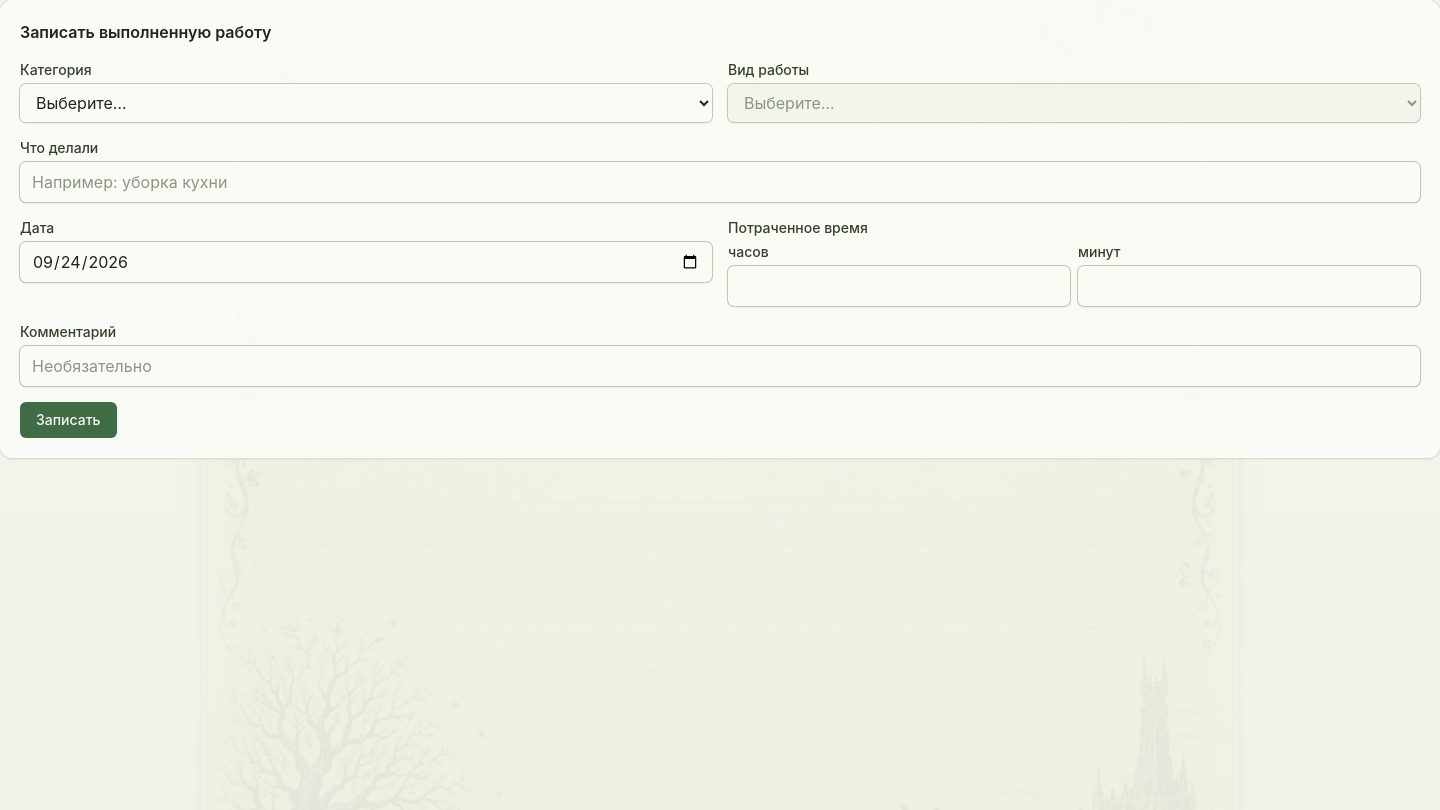
Scenario: ActivityForm › требует название задачи
Select "🏠 Домашние обязанности" in the dropdown labelled "Категория": (366, 103) [20,84,712,122]
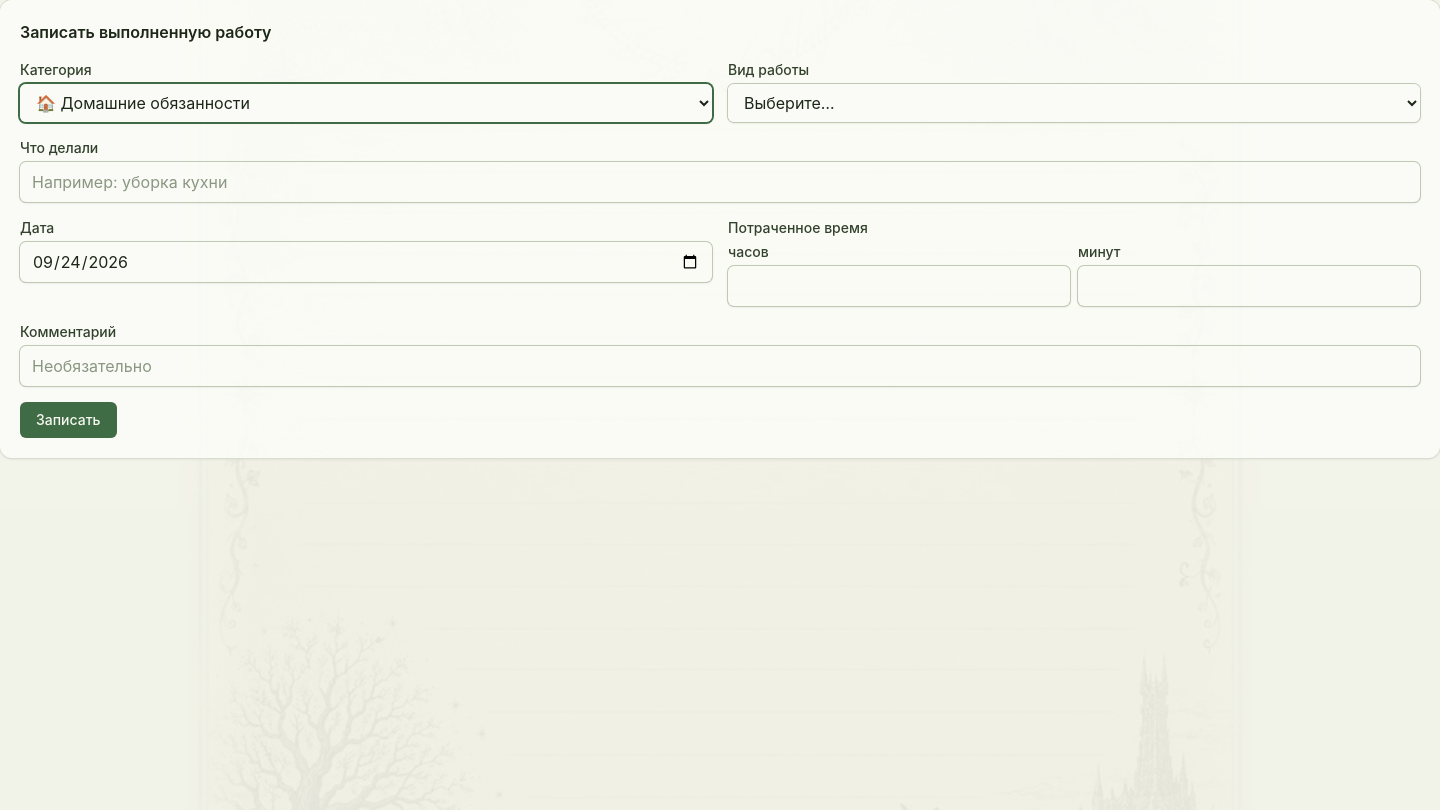
Select "Уборка" in the dropdown labelled "Вид работы": (1074, 103) [728,84,1420,122]
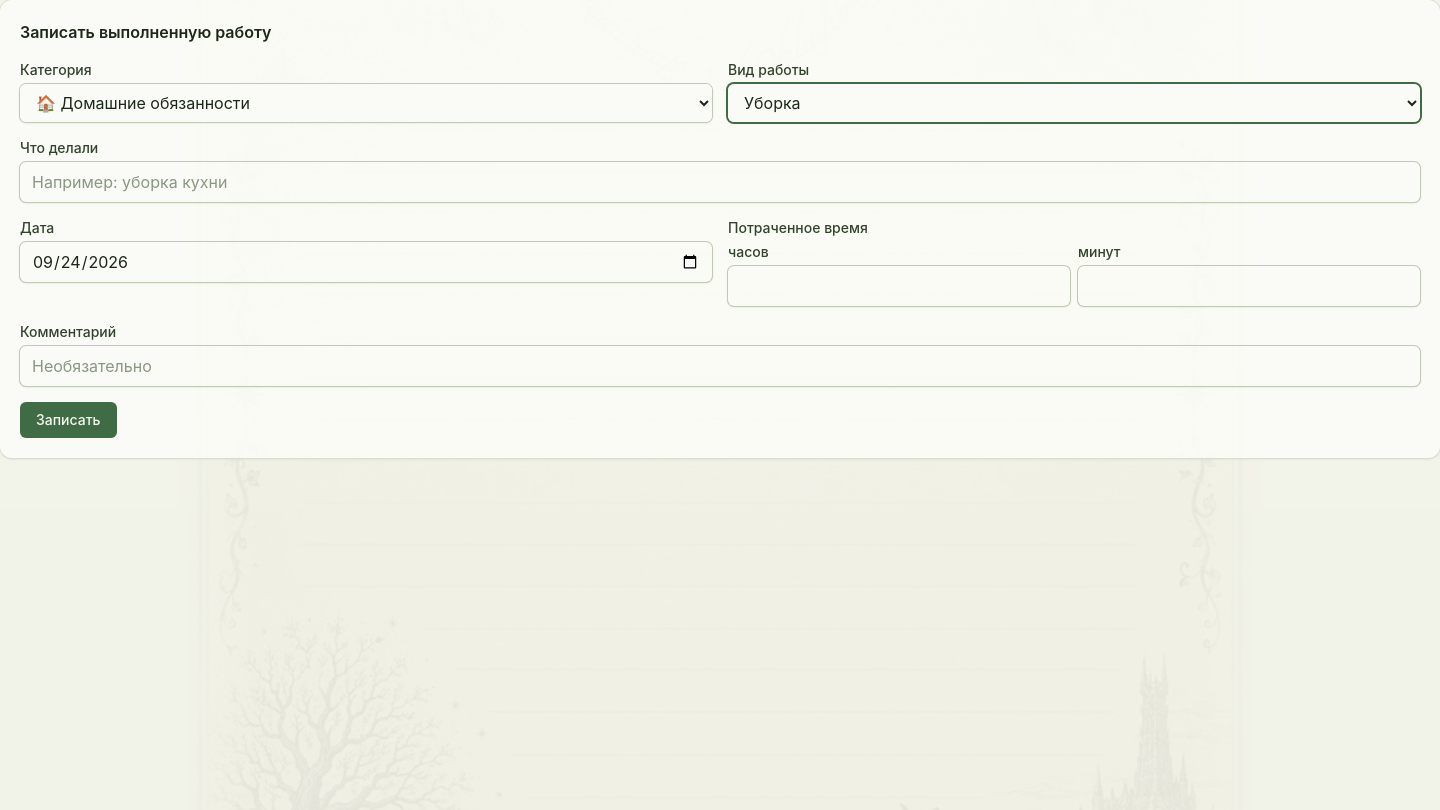
In the number field labelled "часов": (899, 286) [728,266,1070,306], type "1"
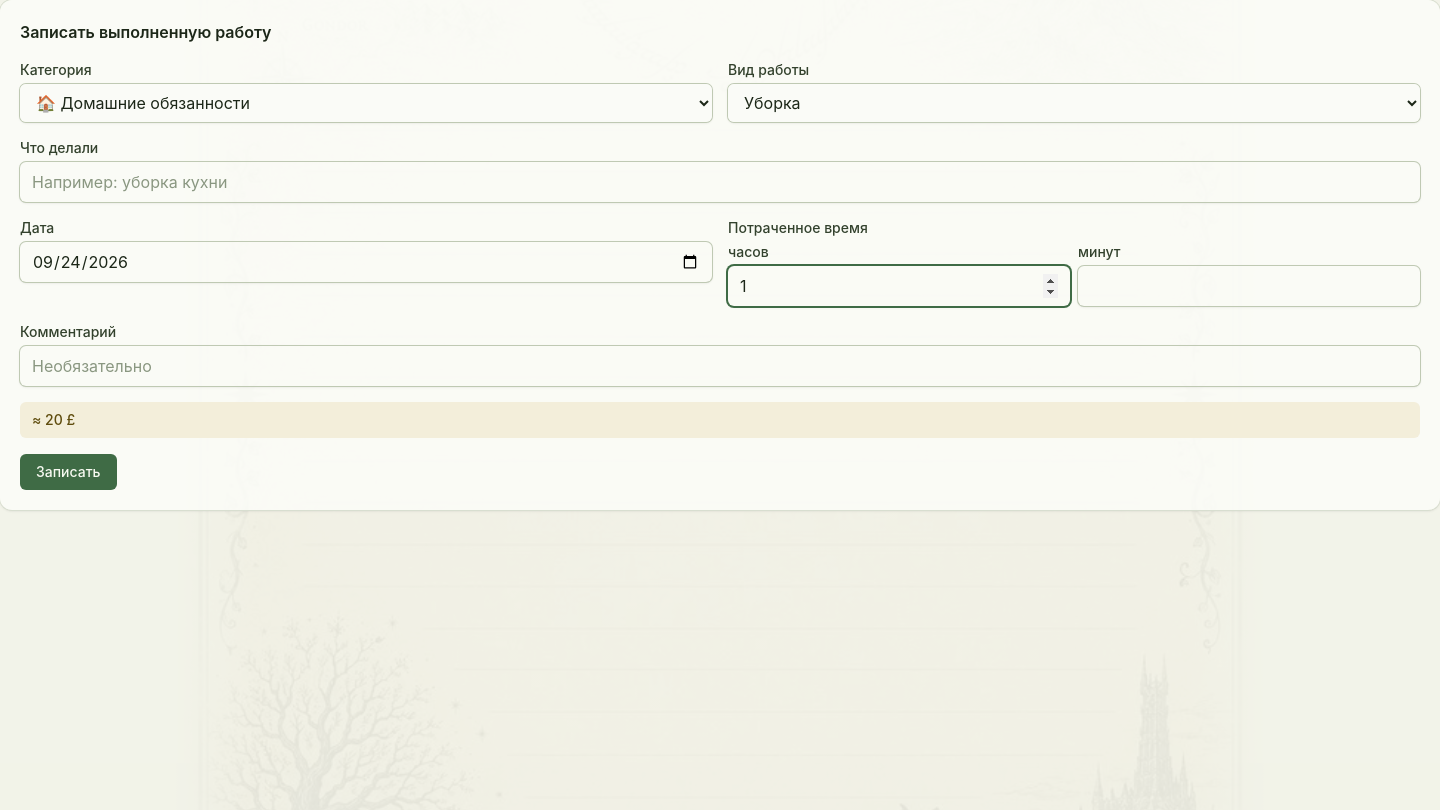
Click the button "Записать": (68, 472) [20,454,116,490]
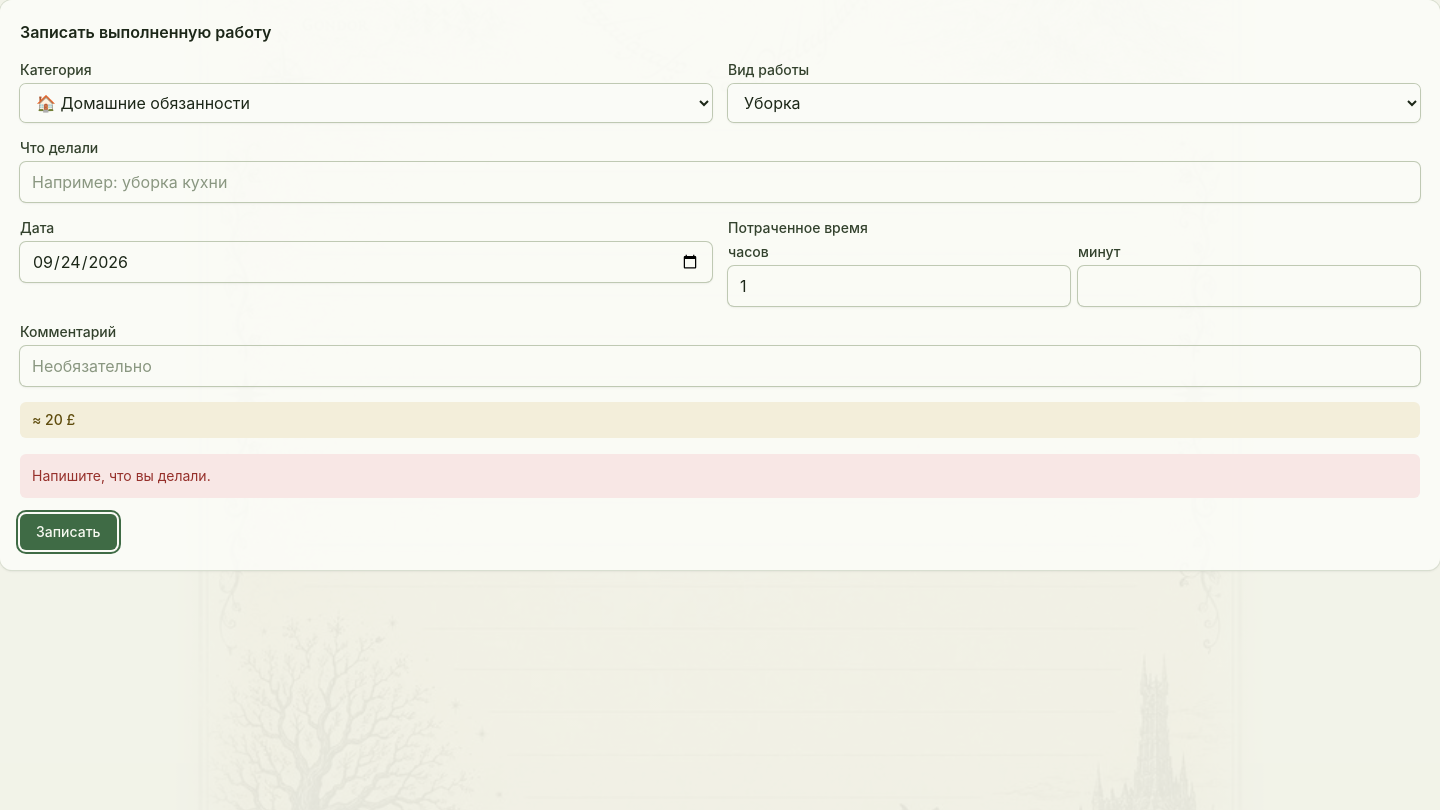
Expected: the message shows "Напишите, что вы делали", [32,467,211,484]
